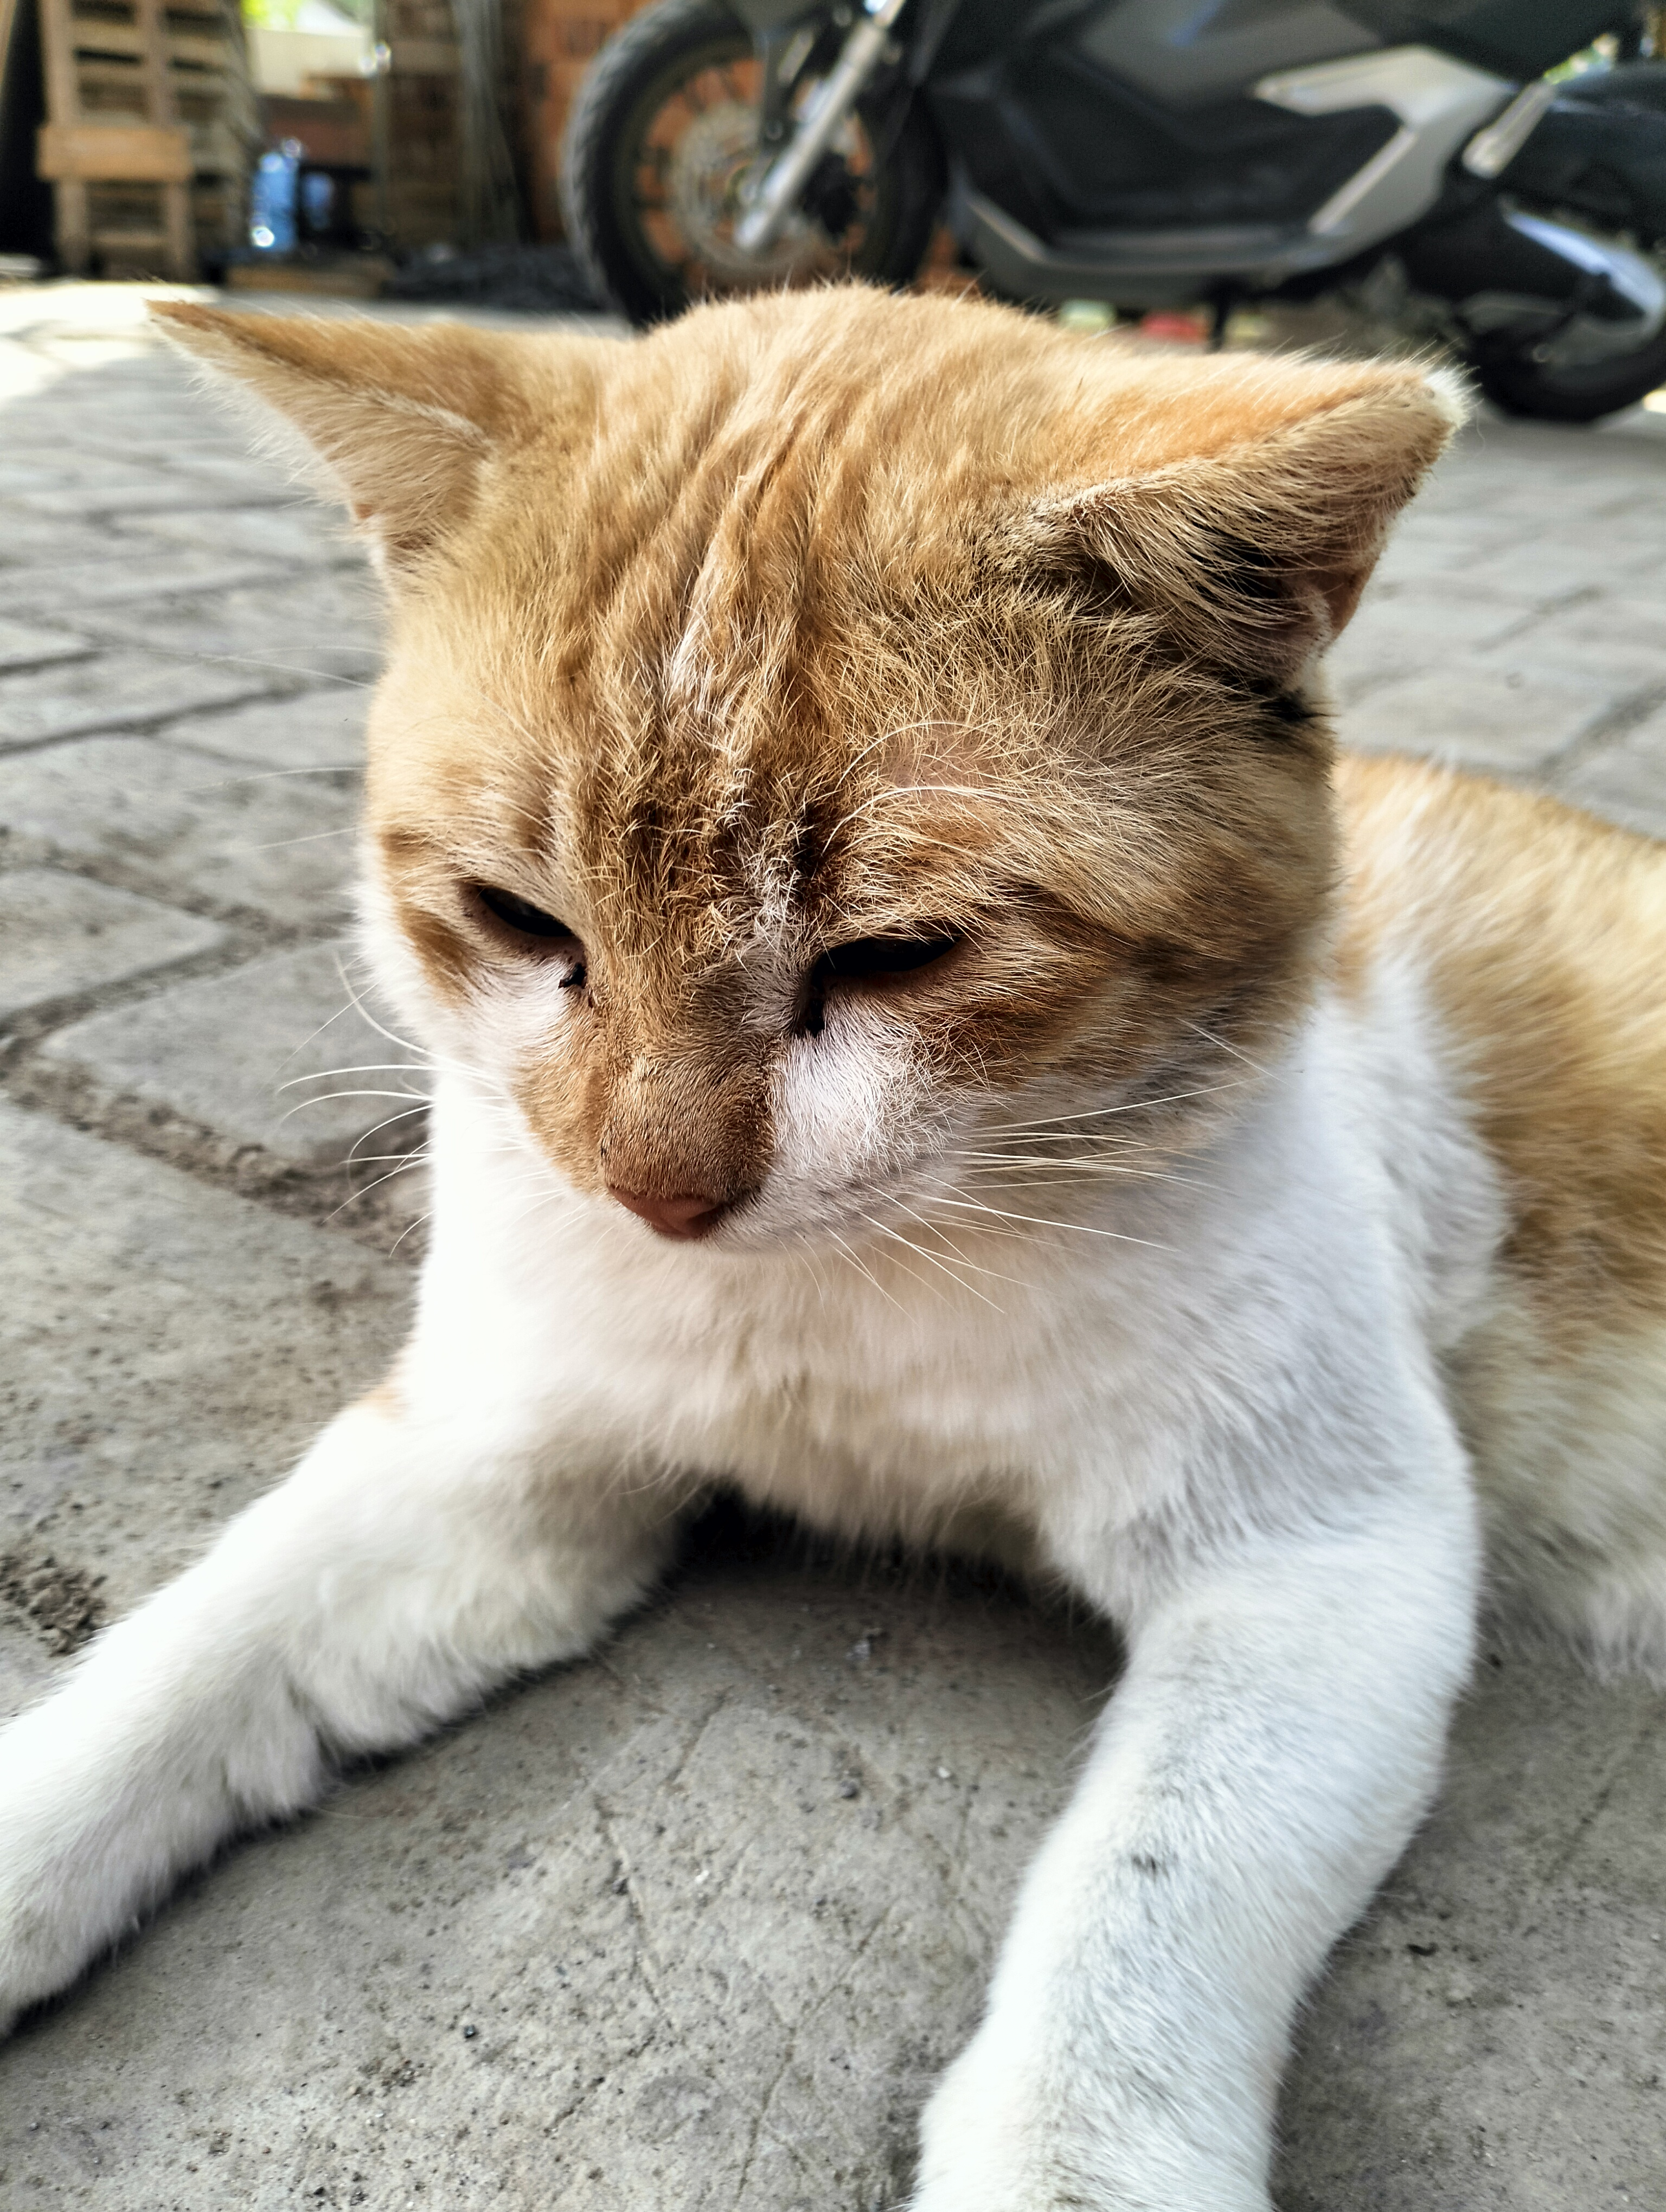oyen: (112, 213, 1523, 1388)
